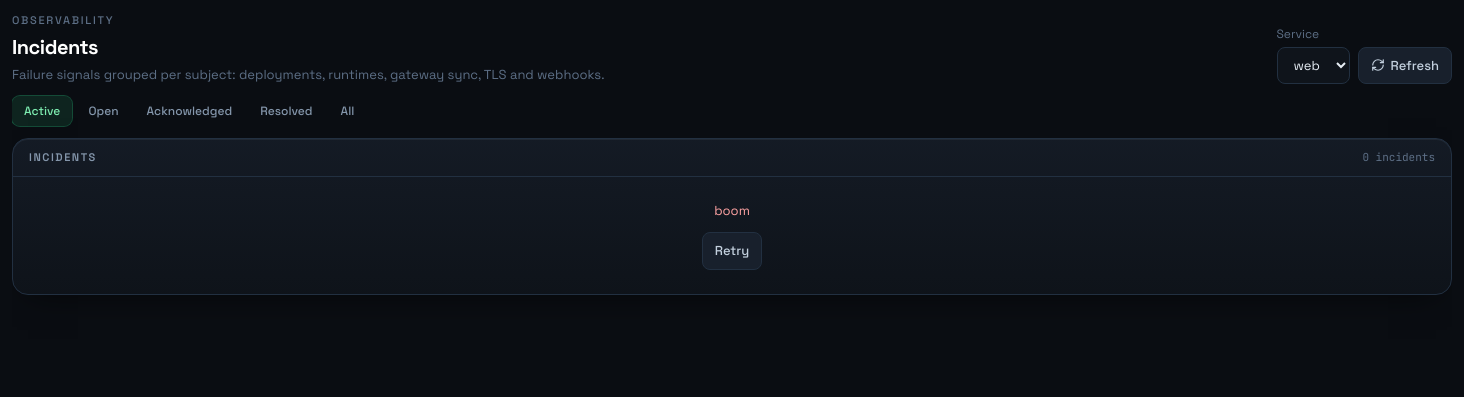
Test: IncidentsView › surfaces a load error and retries
Expected: the message "boom" is shown, [714, 202, 750, 218]
Click the button "Retry" at (732, 251), box [702, 232, 762, 270]
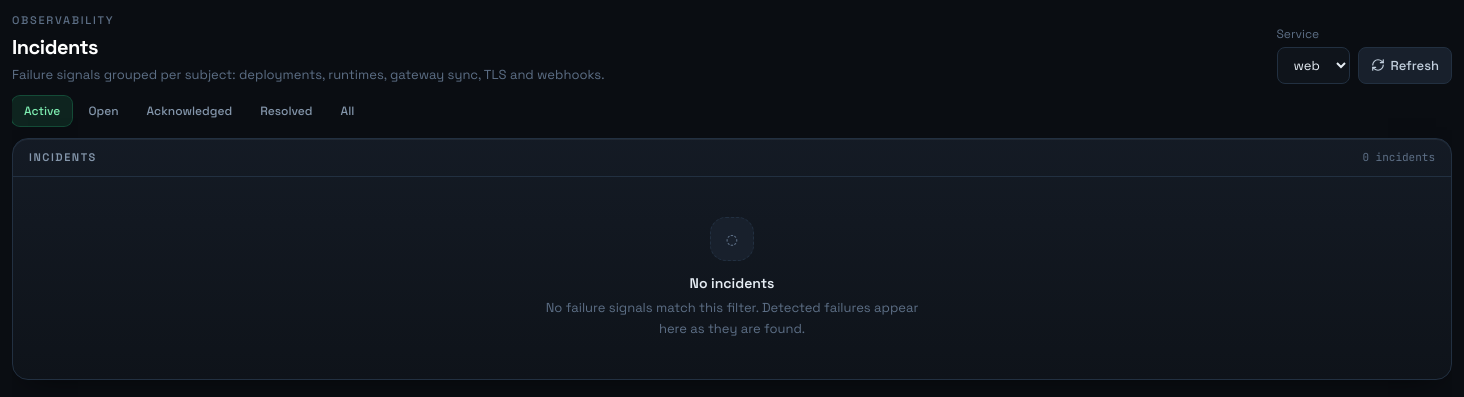
Expected: the text "No incidents" is shown, [690, 272, 774, 292]
